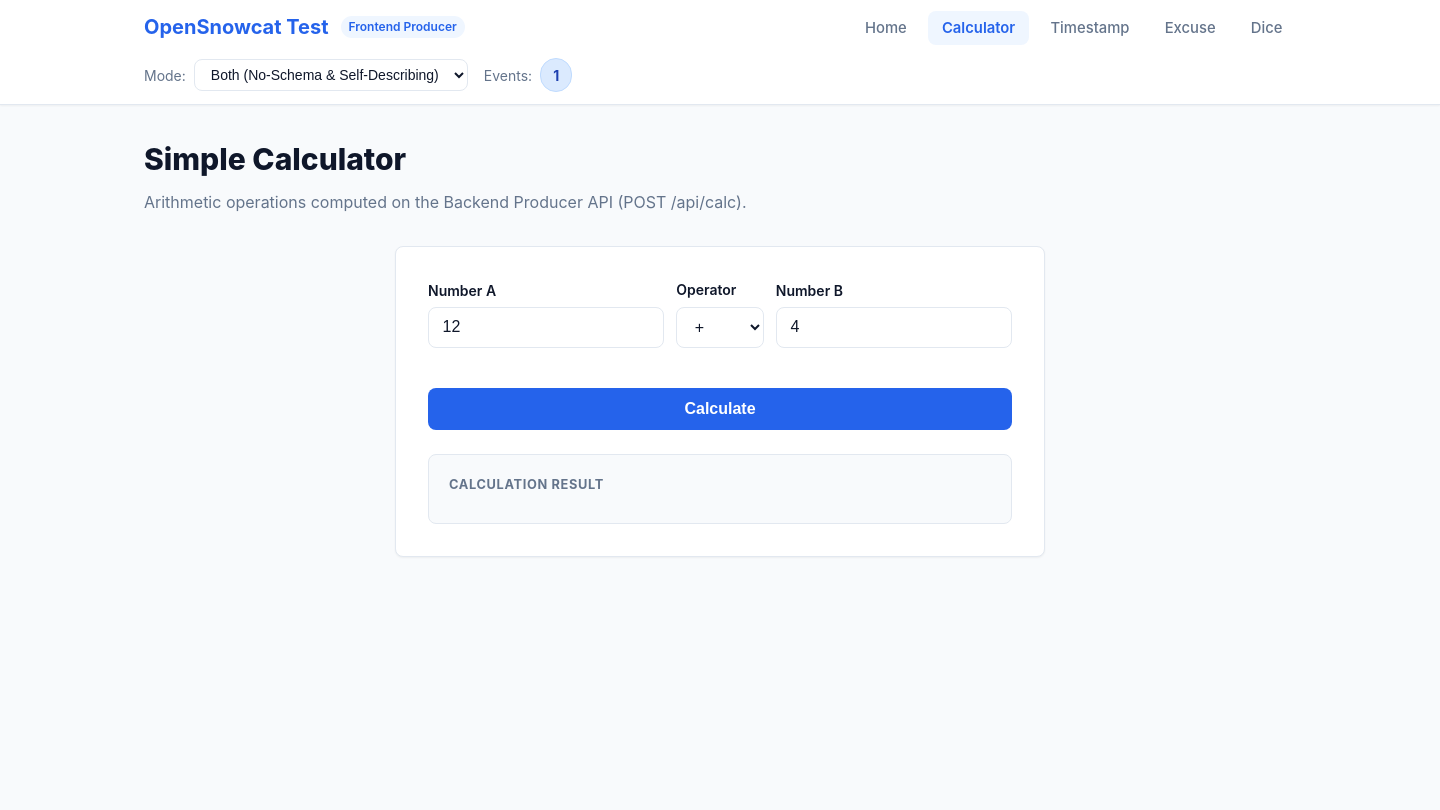
it: Network and API Error Resilience - End-to-End Integration › renders error alert when Backend API returns HTTP 500 on /calc without crashing the app
Expected: the text with test id "frontend-events-counter" reads "1", x1=553 y1=67 x2=559 y2=84
Click the button with test id "btn-calc-submit": (720, 409) x1=428 y1=388 x2=1012 y2=430
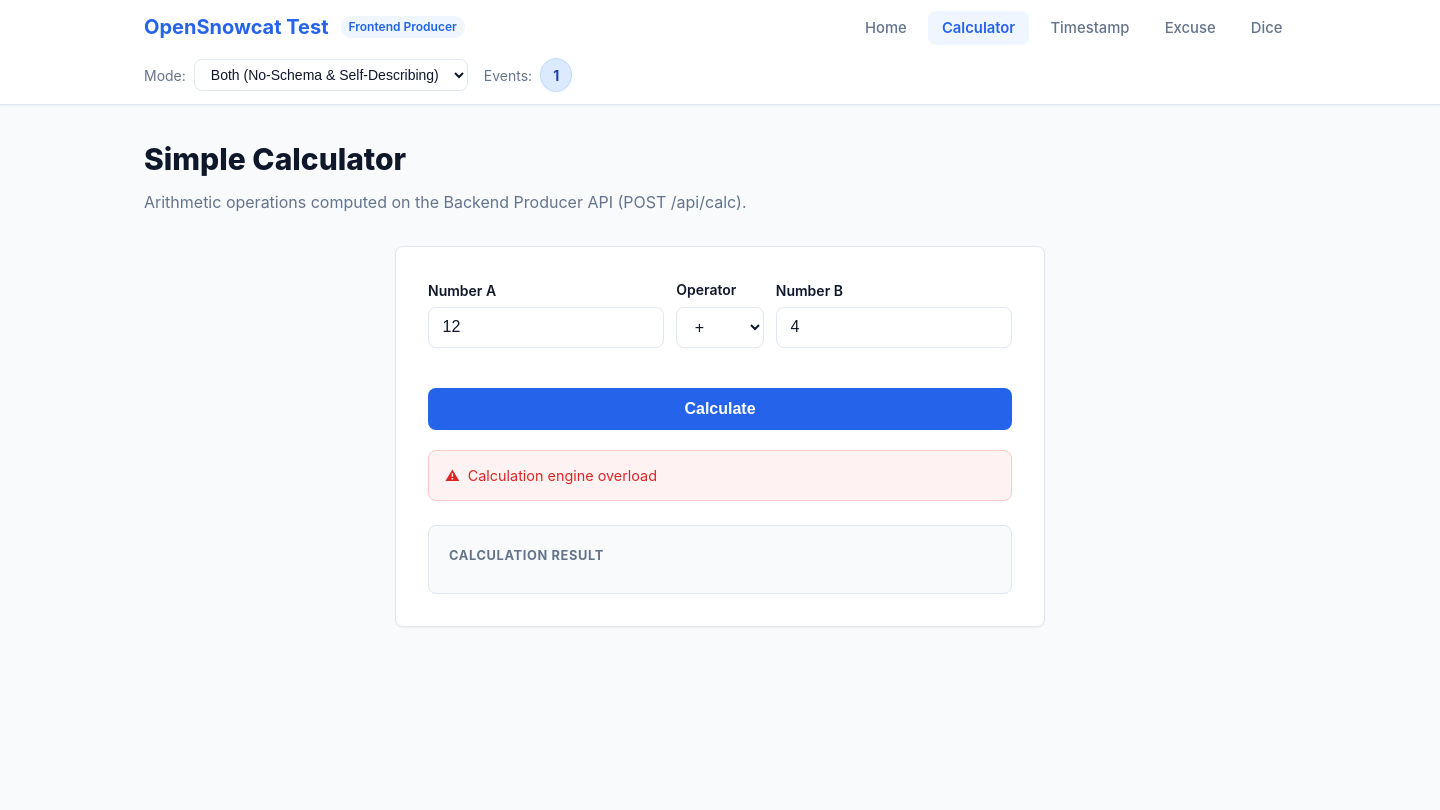
Expected: the link with test id "link-nav-home" is shown, x1=865 y1=19 x2=907 y2=37
Expected: the message "⚠ Calculation engine overload" is shown, x1=428 y1=450 x2=1012 y2=501
Expected: the message shows "Calculation engine overload", x1=468 y1=467 x2=657 y2=484
